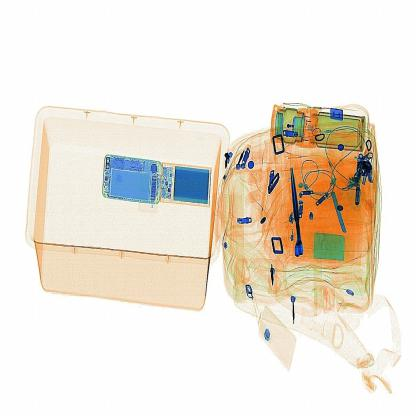gun: (283, 160, 318, 274)
